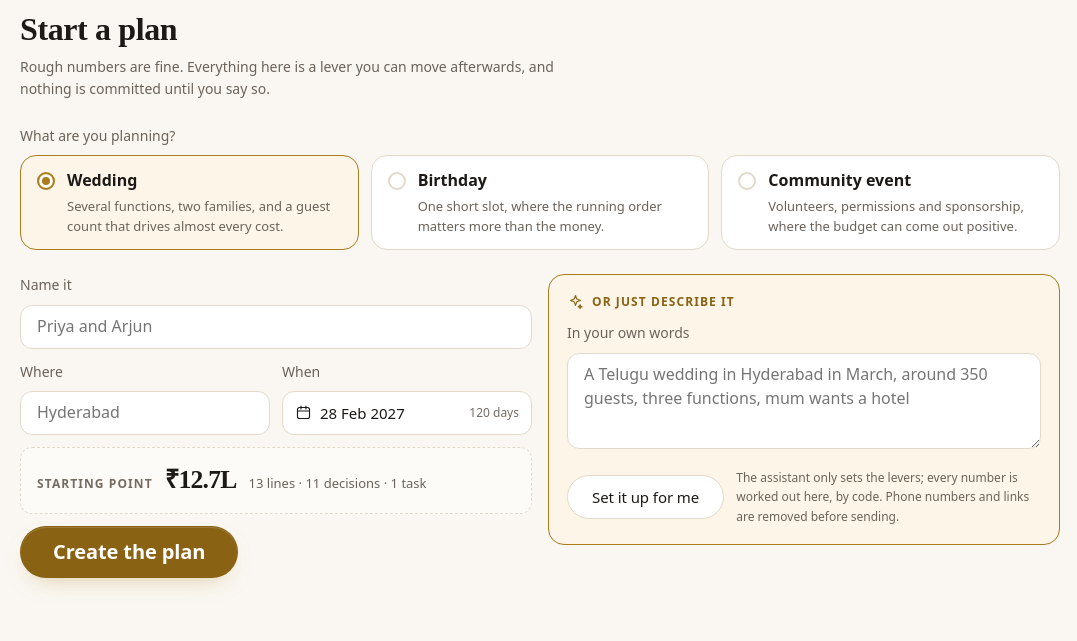
NewPlanPage › will not create a plan with no name
The width and height of the screenshot is (1077, 641).
What coordinates should you click on to do the following:
click the button "Create the plan"
I would click on:
 (129, 552)
Its box is [20,526,238,578].
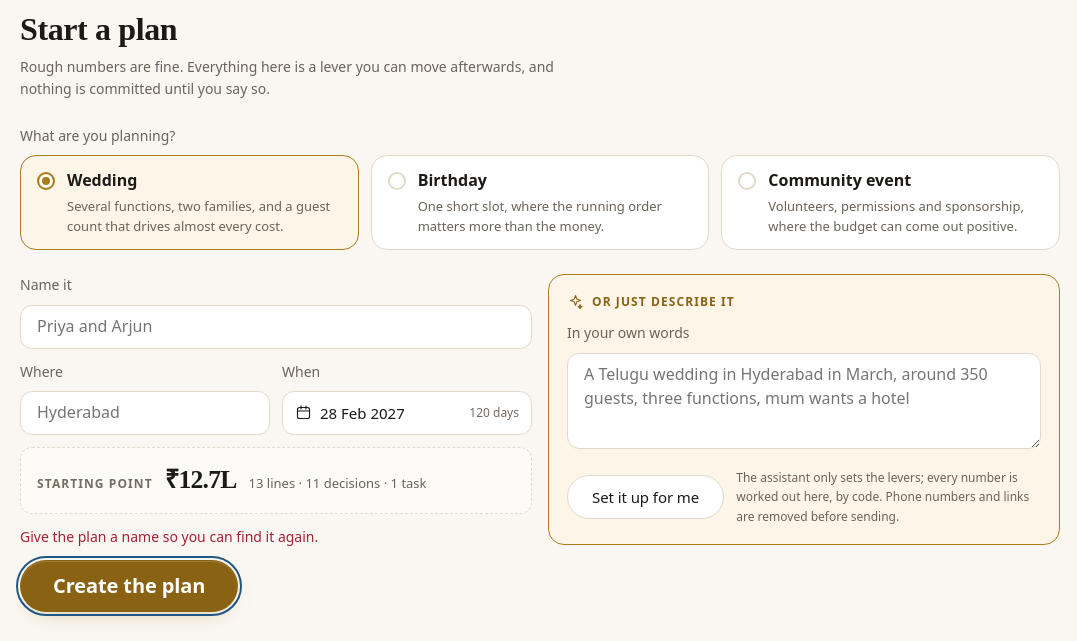
Result: the text "Give the plan a name so you can find it again." is shown at [20,527,318,546]
